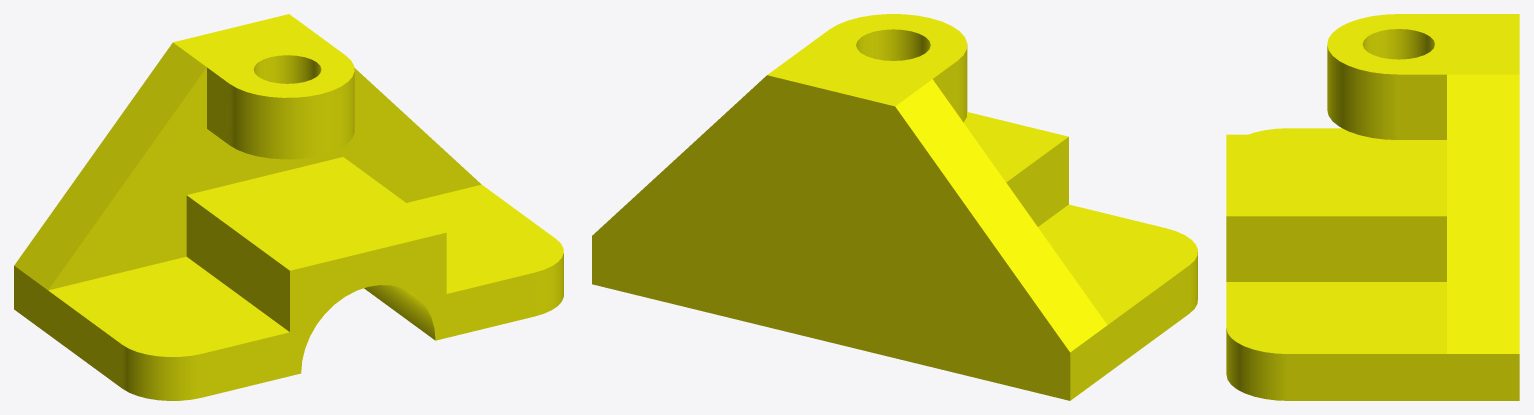
File: problem9_part.glb
3 views of the same model, side by side, from view 1: azimuth 30°, elevation 25°; view 2: azimuth 150°, elevation 25°; view 3: azimuth 270°, elevation 25° (orthographic). The views are drawn at different scales.
Visible parts, largest first — view 1: problem9_part.SLDPRT; view 2: problem9_part.SLDPRT; view 3: problem9_part.SLDPRT.
Boxes of the visible parts, x1,y1,x2,y2 form: problem9_part.SLDPRT: [14, 14, 563, 400]; problem9_part.SLDPRT: [592, 14, 1197, 400]; problem9_part.SLDPRT: [1226, 14, 1519, 400].
Size of the model in its own units: 0.155 by 0.078 by 0.085.
